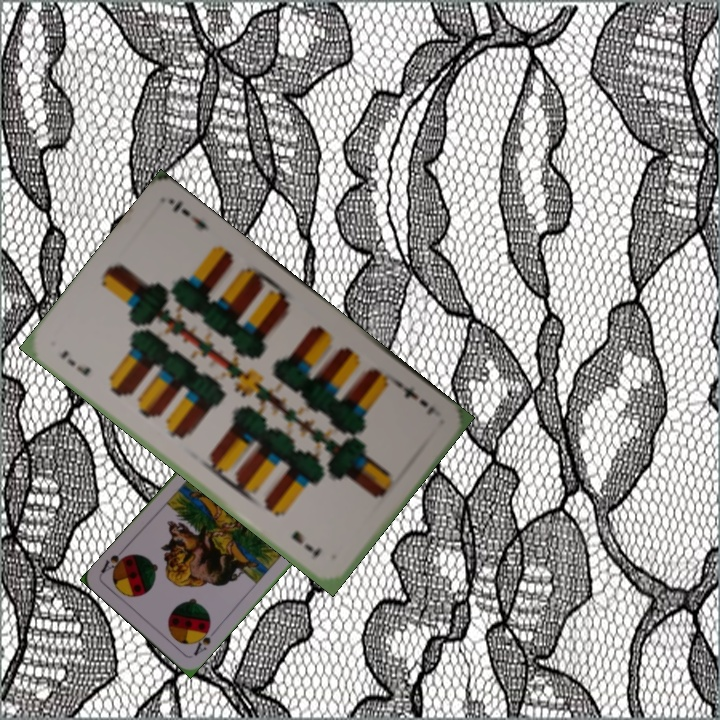E7: (392, 377, 438, 419), (56, 346, 94, 379)
SA: (190, 621, 213, 658)
